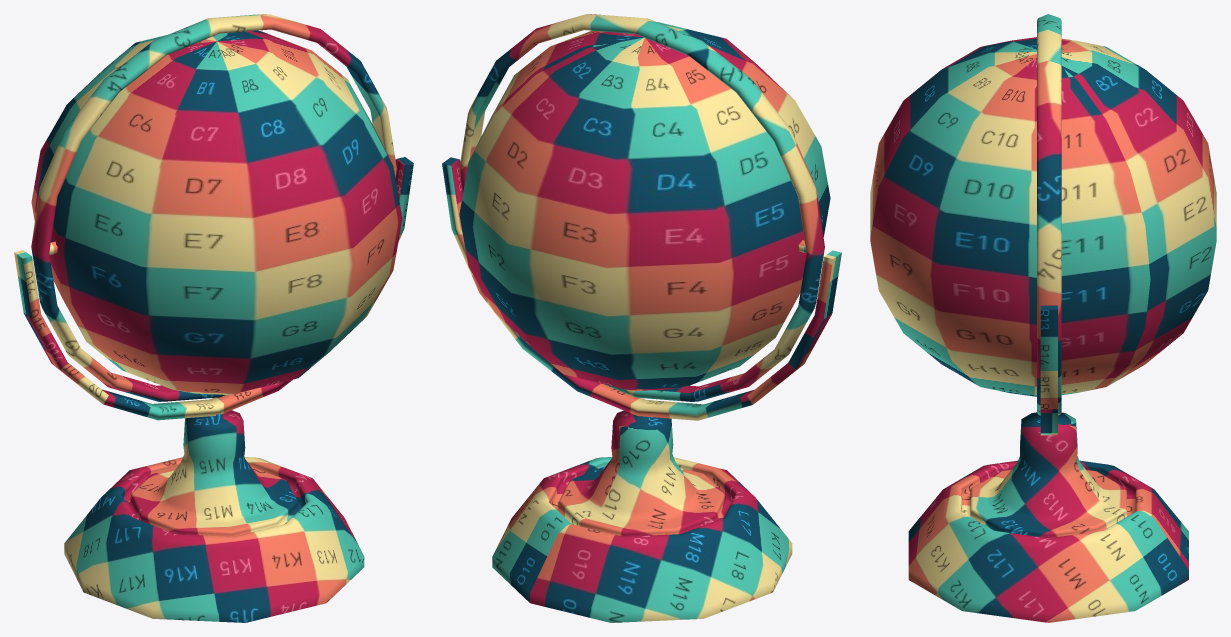
Rendered from globe.fbx.
3 renders of one model, left to right at view 1: azimuth 30°, elevation 25°; view 2: azimuth 150°, elevation 25°; view 3: azimuth 270°, elevation 25°, orthographic. The views are drawn at different scales.
Parts seen in each view (by area): view 1: globe; view 2: globe; view 3: globe.
Part boxes in pixels (box(x1,y1,x2,y2)): globe: box(14, 14, 413, 622); globe: box(442, 14, 841, 622); globe: box(870, 14, 1216, 622).
Bounding box in the file's own units: 28.89 × 38.25 × 22.7.
